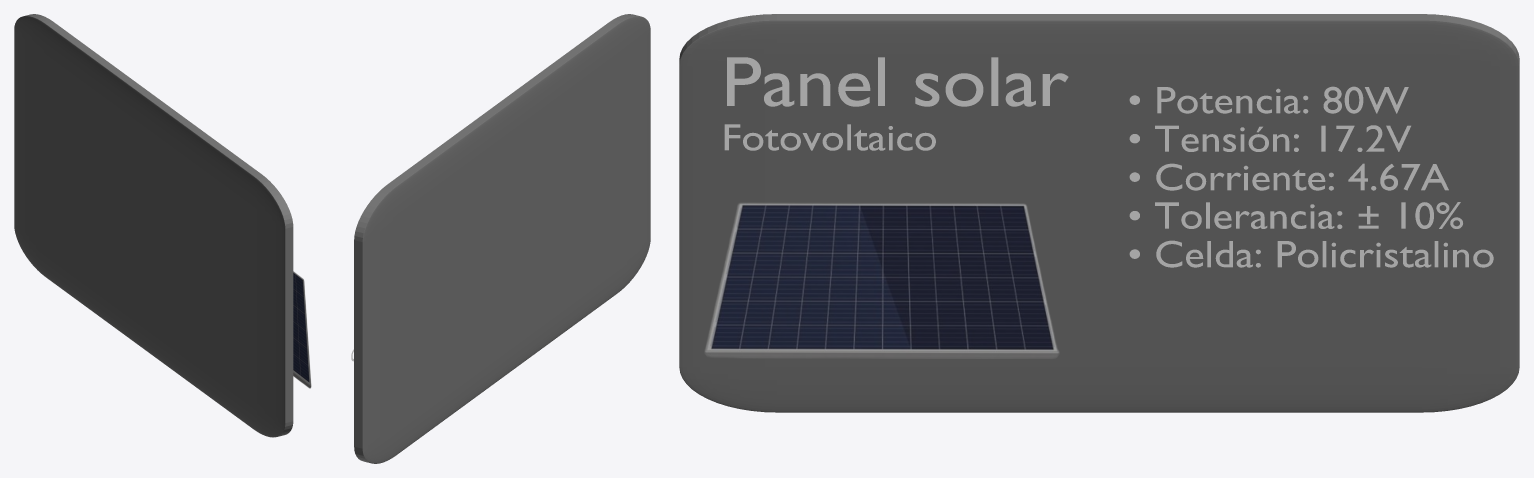
File: PanelSolarPopUp.glb
3 views of the same model, side by side, from view 1: azimuth 30°, elevation 25°; view 2: azimuth 150°, elevation 25°; view 3: azimuth 270°, elevation 25° (orthographic). The views are drawn at different scales.
Parts seen in each view (by area): view 1: Cube, PanelSolar; view 2: Cube; view 3: Cube, PanelSolar, Text.002, Text, Text.001.
Boxes of the visible parts, x1,y1,x2,y2 form: Cube: (14, 14, 293, 437); PanelSolar: (293, 271, 311, 388); Cube: (354, 14, 650, 463); Cube: (679, 14, 1519, 412); PanelSolar: (704, 203, 1059, 358); Text.002: (1129, 86, 1493, 267); Text: (727, 57, 1068, 106); Text.001: (724, 124, 935, 150).
Size of the model in its own units: 0.5432 by 3.18 by 5.7.
Materials: 5 (1 with a texture image).
